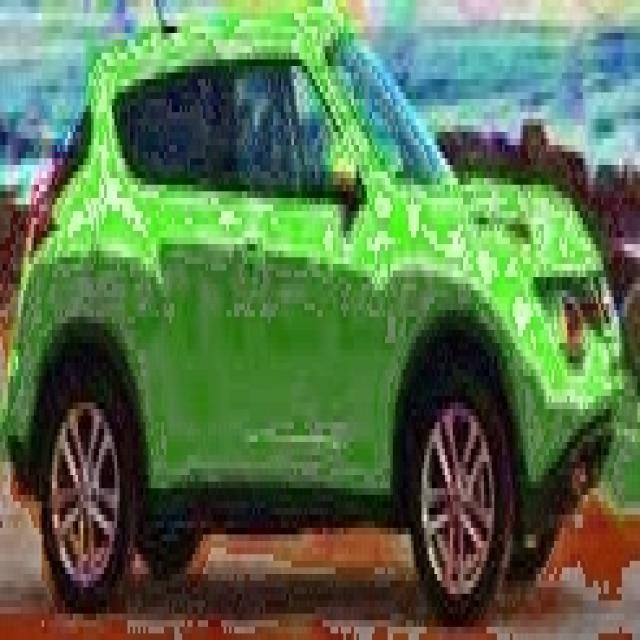green: (11, 4, 608, 624)
